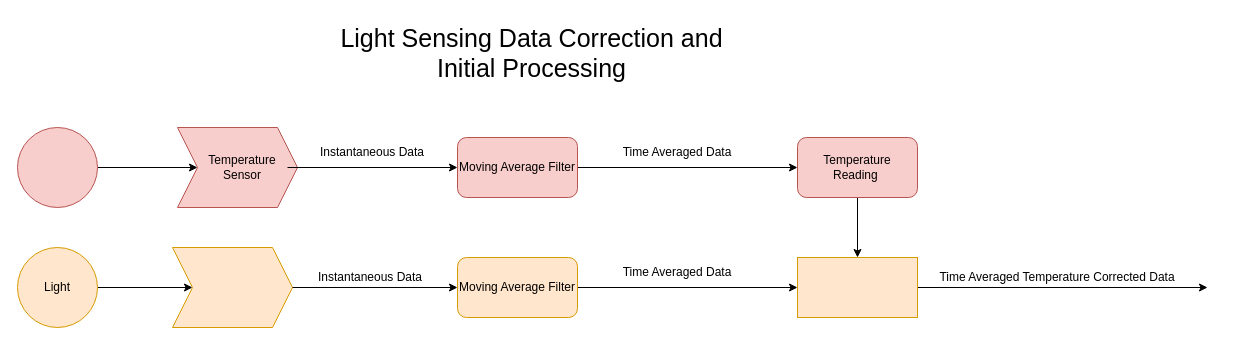
The diagram is 1233 pixels wide and 345 high, and some of its shapes have lost their labels. Each missing label, with the centre of its shape:
"Solar Panels" belongs at point 232,287.
"Temperature" belongs at point 57,167.
"Temperature Corrected Reading" belongs at point 857,287.
